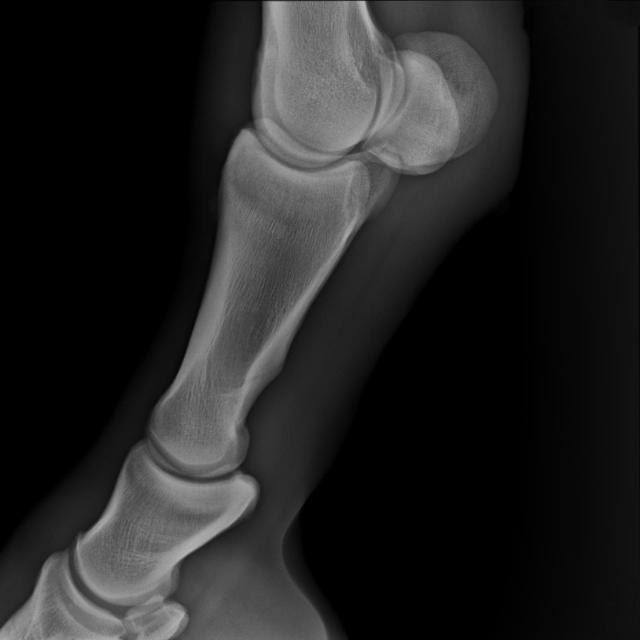joint-ht8A: (212, 4, 506, 220)
